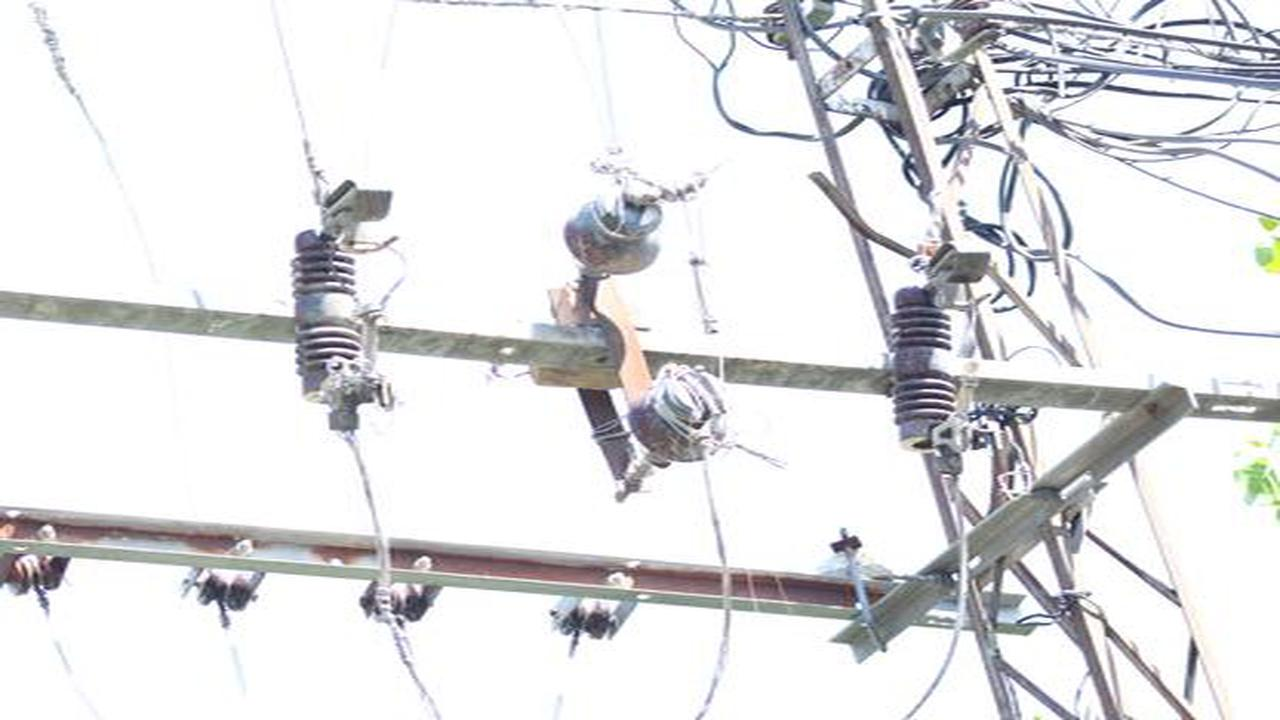insulator_pin: (631, 367, 736, 473), (561, 180, 666, 282)
